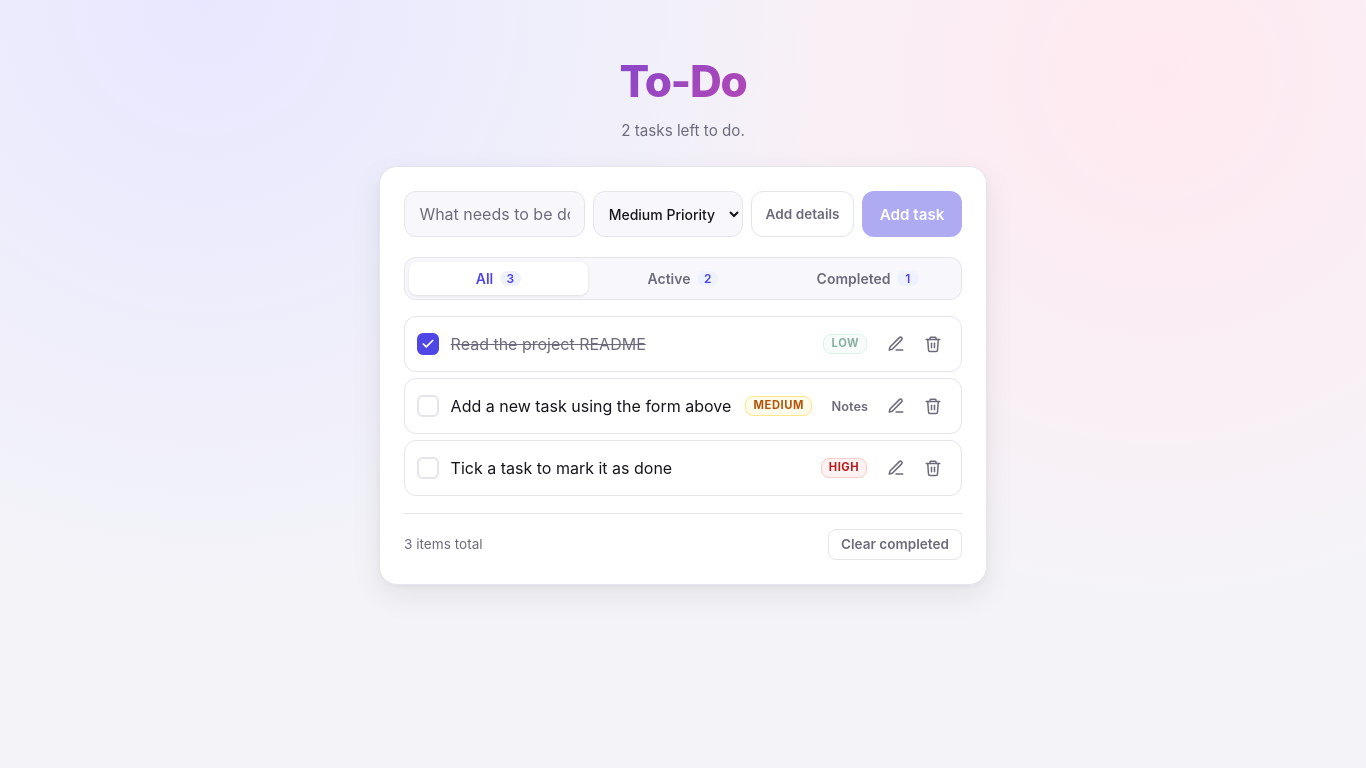
Test case: To-do app › edits a completed task
Click the button named "Edit task: Read the project README" at point(896, 344), box [879, 328, 912, 361]
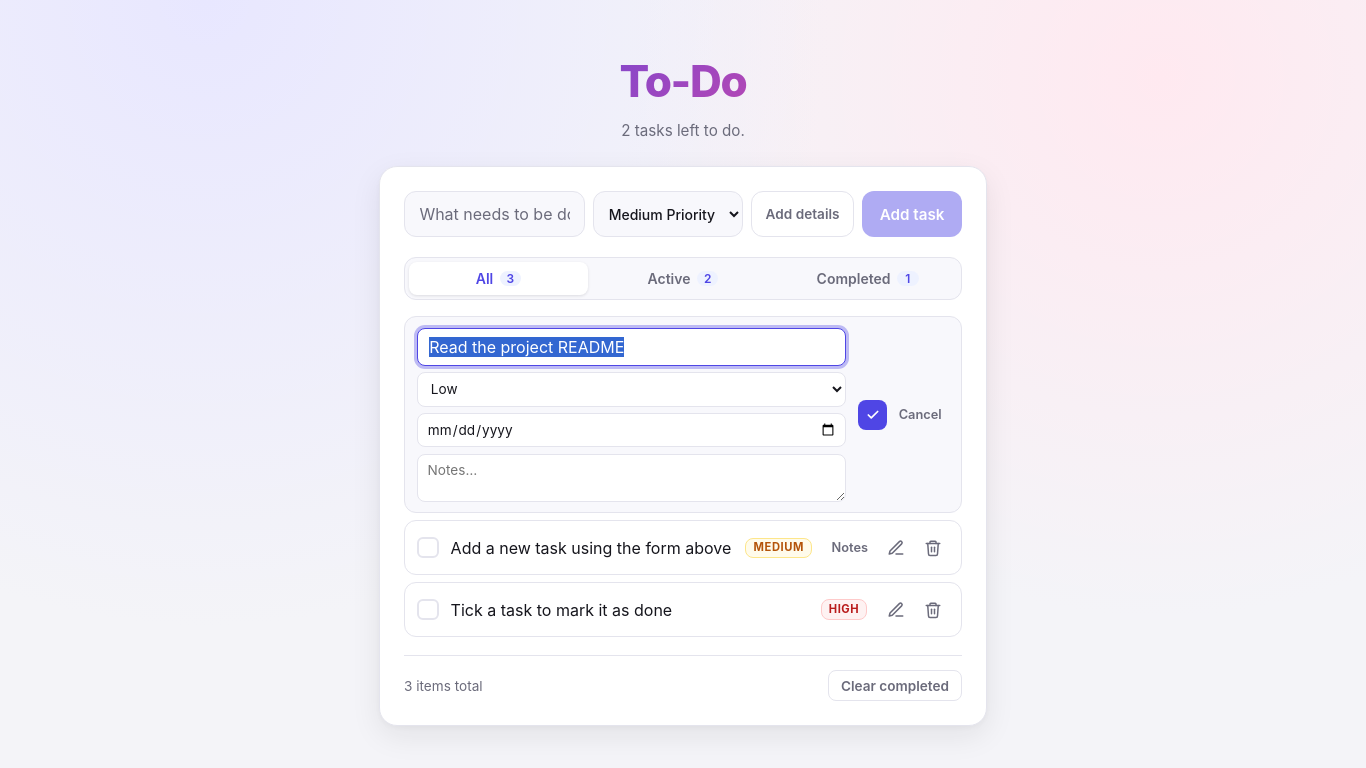
Replace the text in the field named "Edit task: Read the project README" with "Read the docs" at point(632, 347), box [417, 328, 846, 366]
Then press Enter
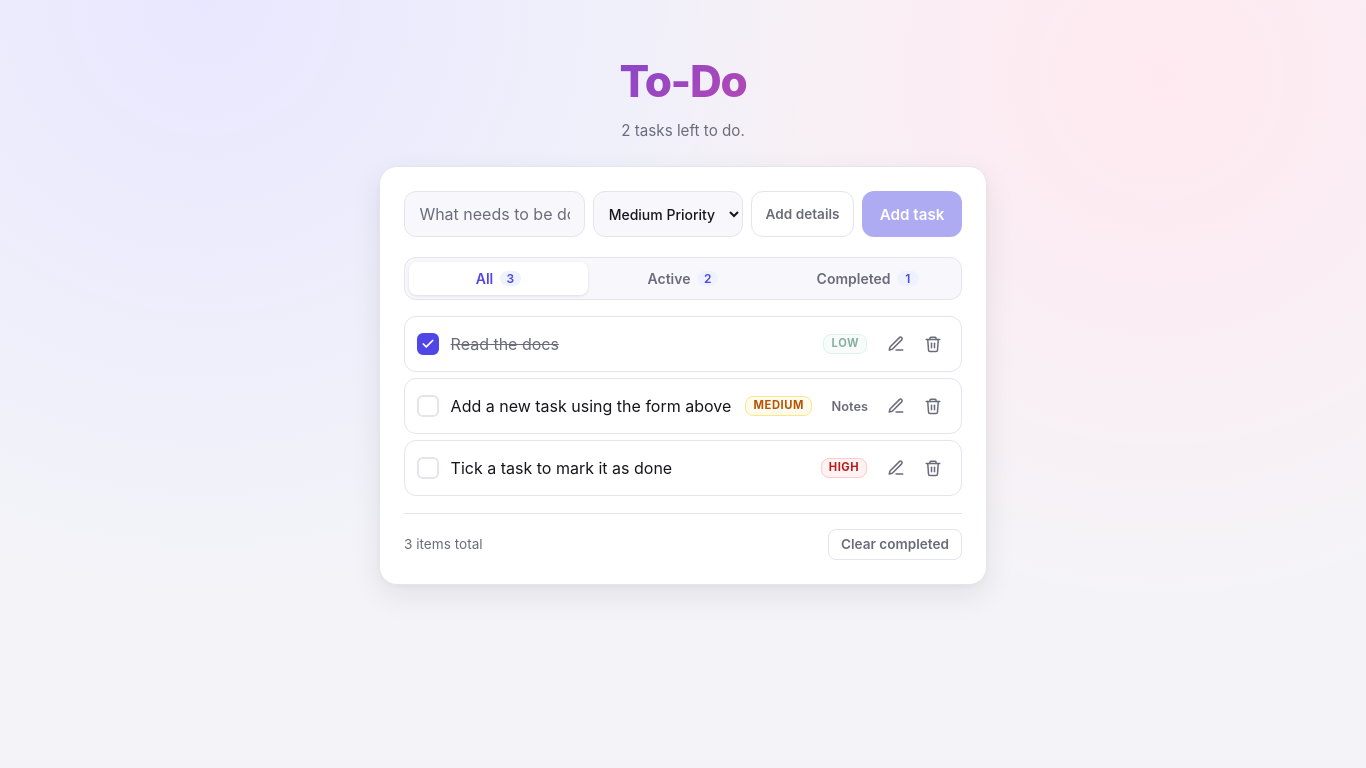
Result: the text "Read the docs" is shown at [451, 334, 559, 354]
Result: the checkbox labelled "Read the docs low" is checked at [417, 332, 867, 356]
